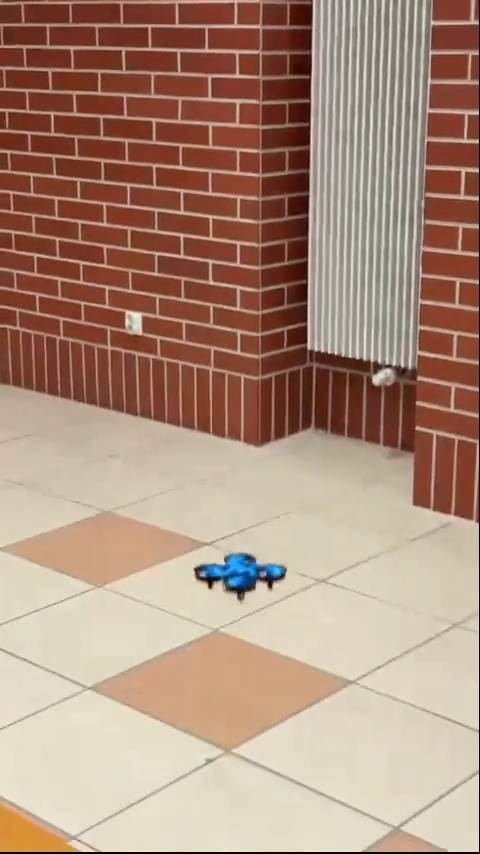drone: (194, 550, 286, 598)
